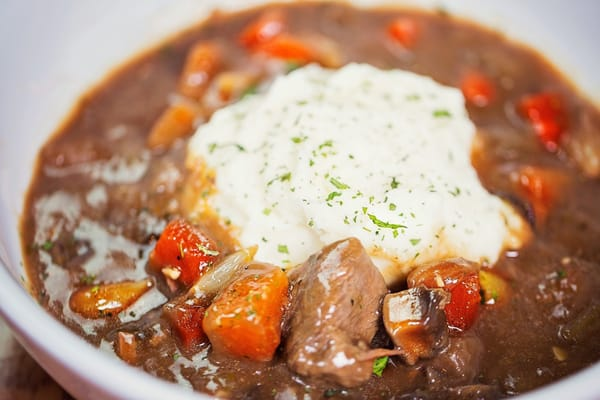pizza: (202, 265, 289, 362), (146, 105, 195, 148)
